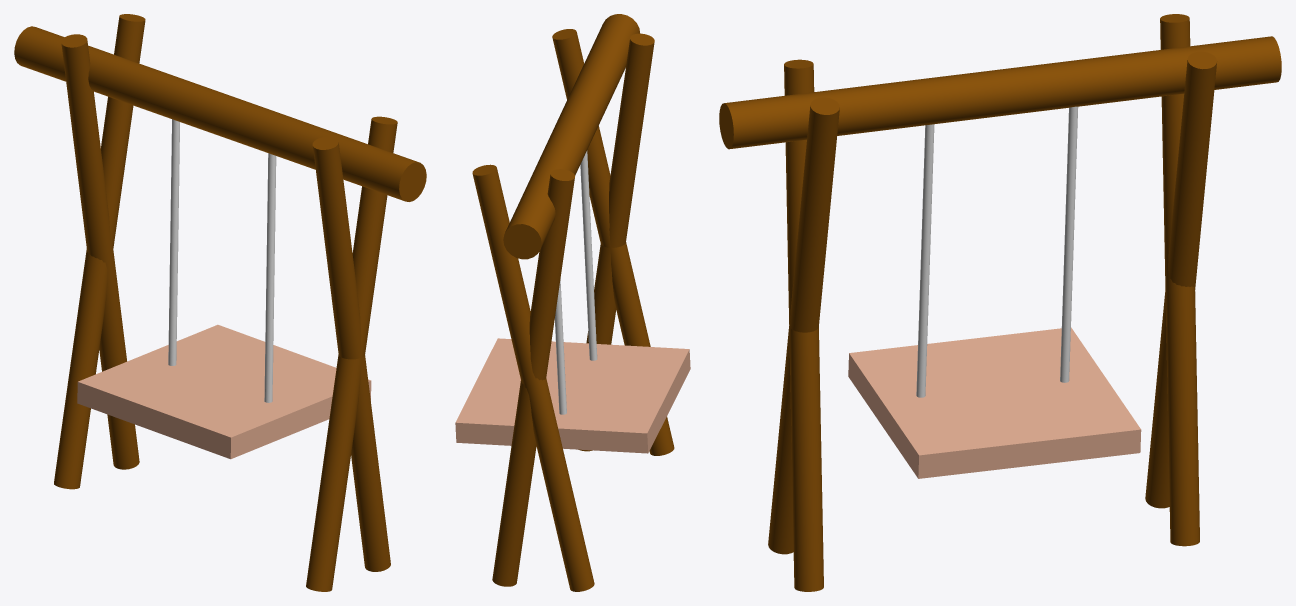
File: Stage_Buranko.fbx
The picture shows the model from 3 angles, left to right: view 1: azimuth 30°, elevation 25°; view 2: azimuth 150°, elevation 25°; view 3: azimuth 270°, elevation 25°; orthographic projection. The views are drawn at different scales.
Visible parts, largest first — view 1: pCylinder4; view 2: pCylinder4; view 3: pCylinder4.
Part boxes in pixels (x1,y1,x2,y2): pCylinder4: [14, 14, 426, 591]; pCylinder4: [455, 14, 690, 591]; pCylinder4: [719, 14, 1281, 591].
Bounding box in the file's own units: 113 × 211 × 217.
